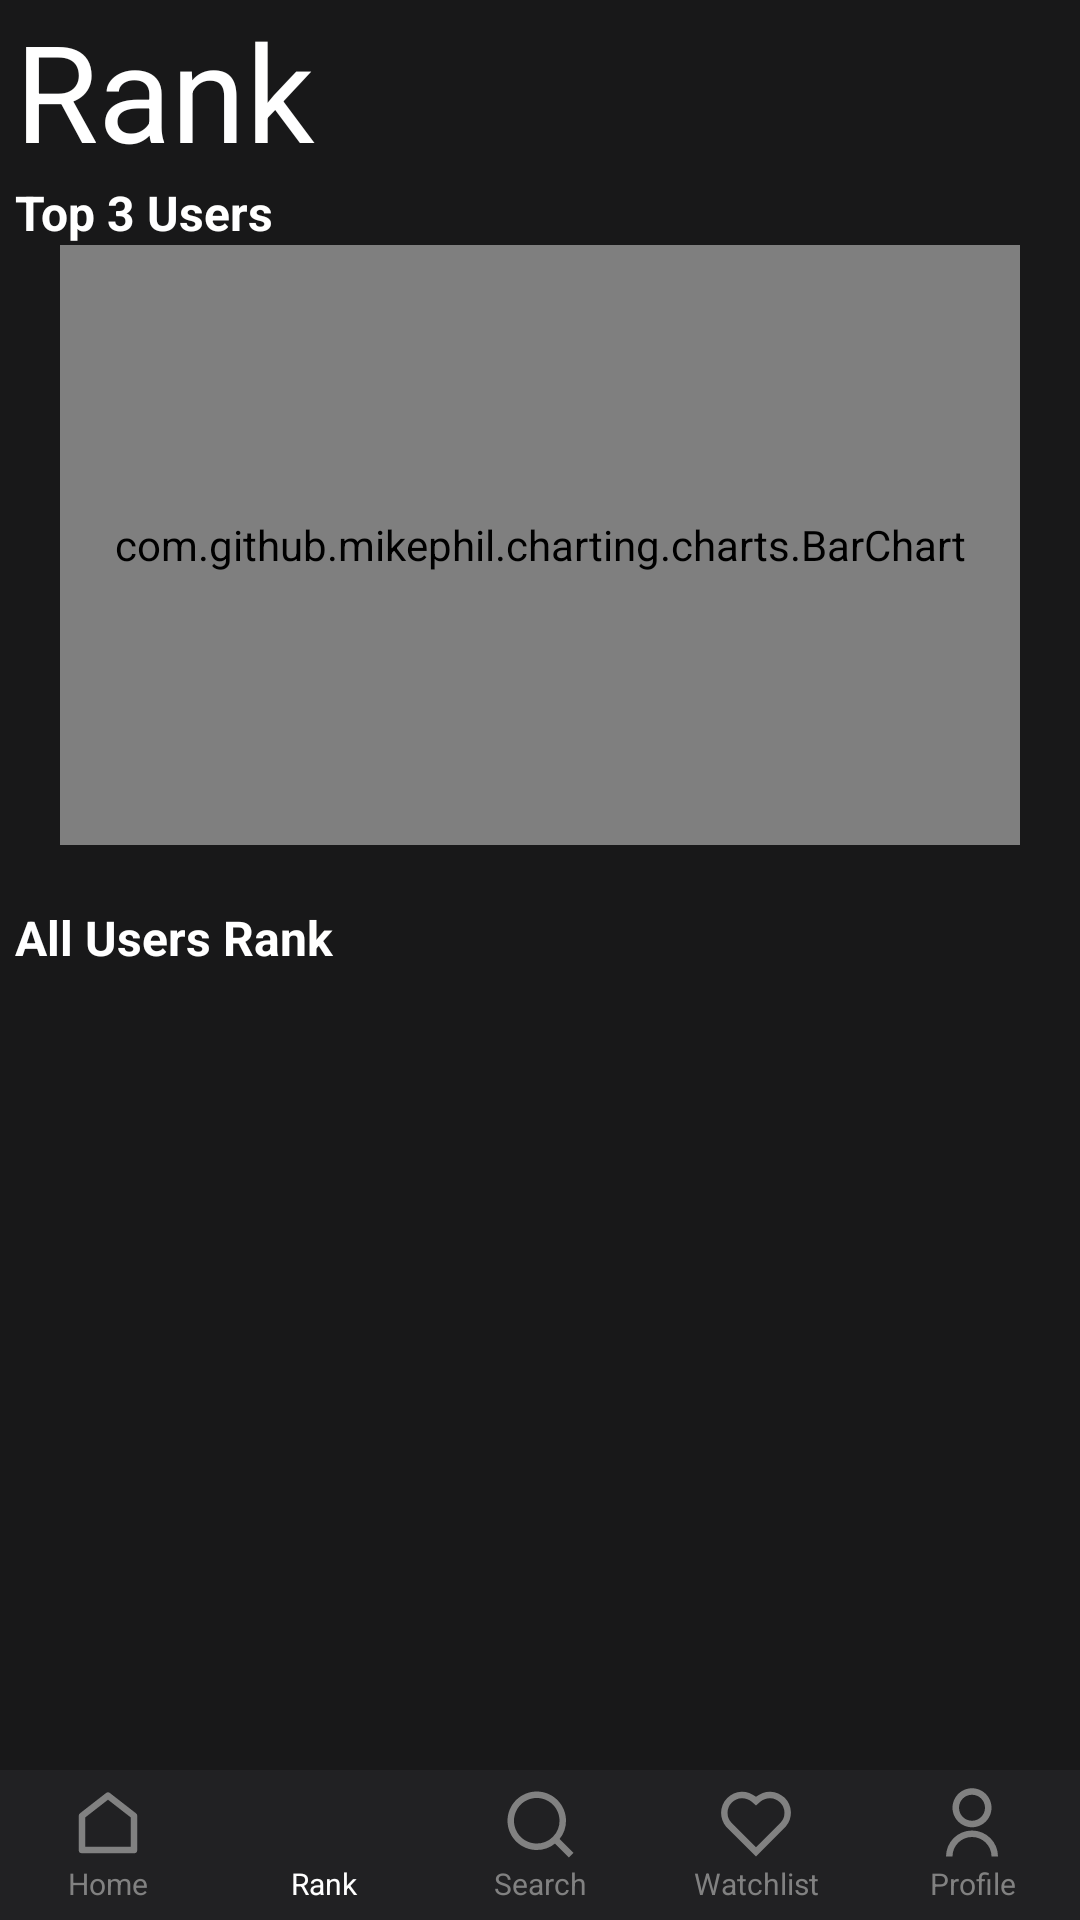

Named icons in this screenshot (1080px×1920px) and their bounding boxes, BBox(x1, y1, x2, y2):
love: BBox(721, 1792, 791, 1856)
